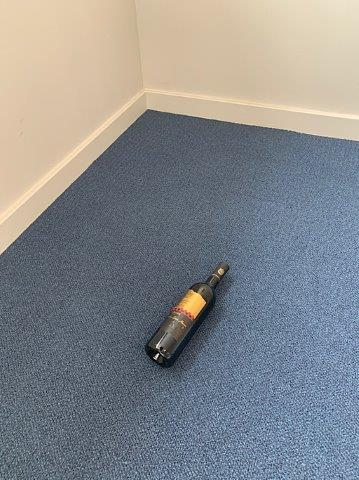botolkaca: (144, 261, 231, 367)
